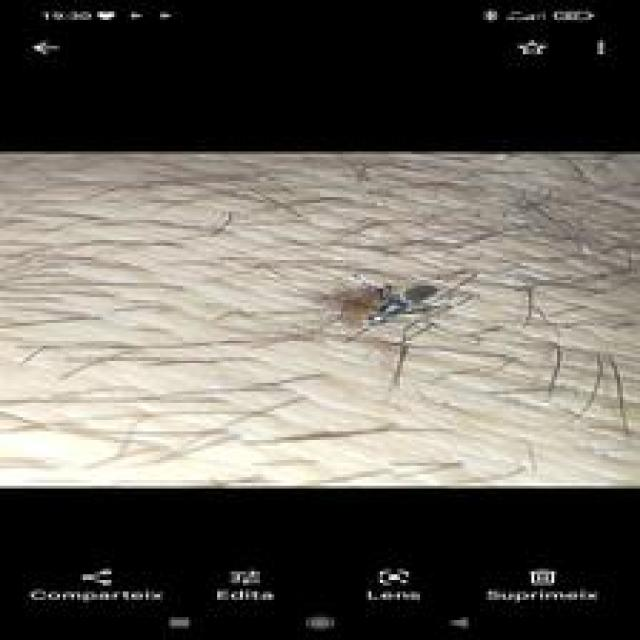Aedes albopictus: (364, 280, 439, 326)
